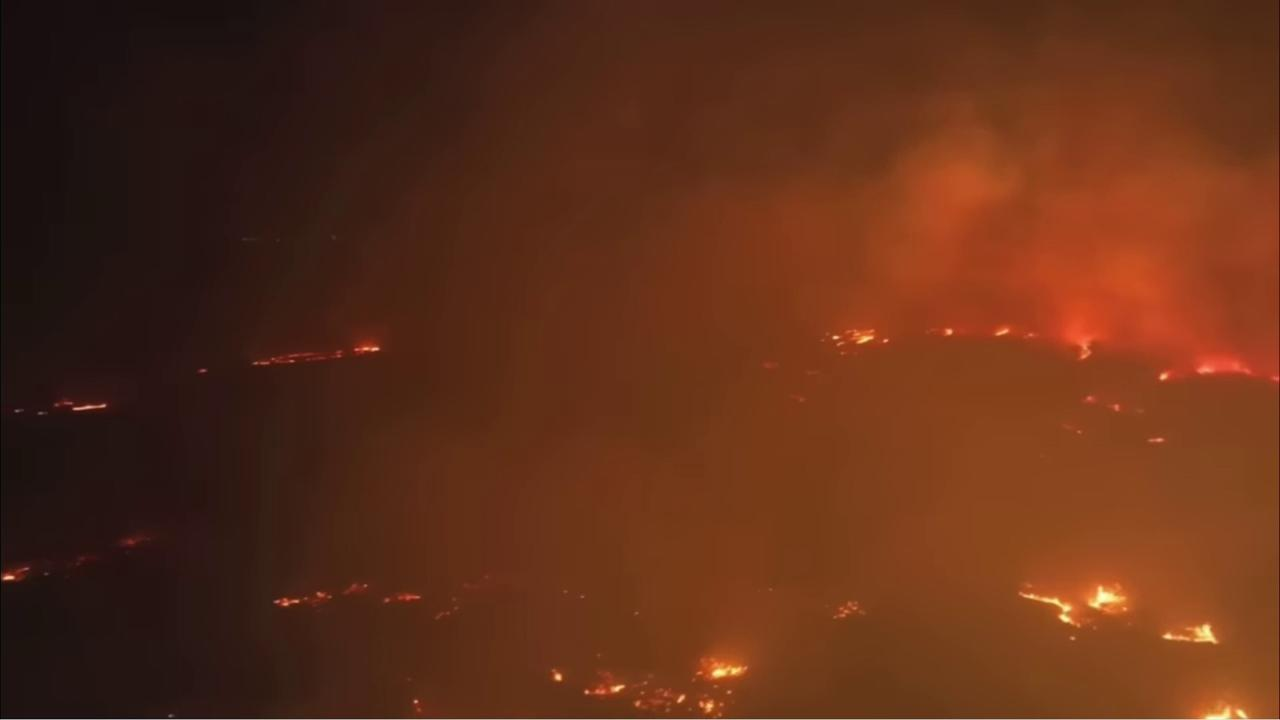fire: (632, 655, 750, 720), (1015, 575, 1080, 641), (248, 342, 381, 370), (269, 577, 367, 609), (817, 326, 889, 356), (1159, 620, 1220, 647), (1188, 695, 1252, 720), (1084, 582, 1131, 616), (1192, 354, 1259, 377), (579, 668, 626, 699), (51, 394, 108, 415), (831, 593, 869, 624), (0, 563, 33, 587), (383, 590, 423, 608), (113, 532, 149, 551), (1070, 333, 1093, 362), (550, 666, 566, 685), (1156, 367, 1173, 384), (1143, 433, 1166, 445), (412, 696, 426, 715), (990, 325, 1010, 338), (938, 326, 957, 338), (1081, 394, 1098, 404), (195, 365, 209, 375), (1109, 402, 1122, 412), (1268, 372, 1280, 382)
smoke: (0, 0, 1280, 720)
